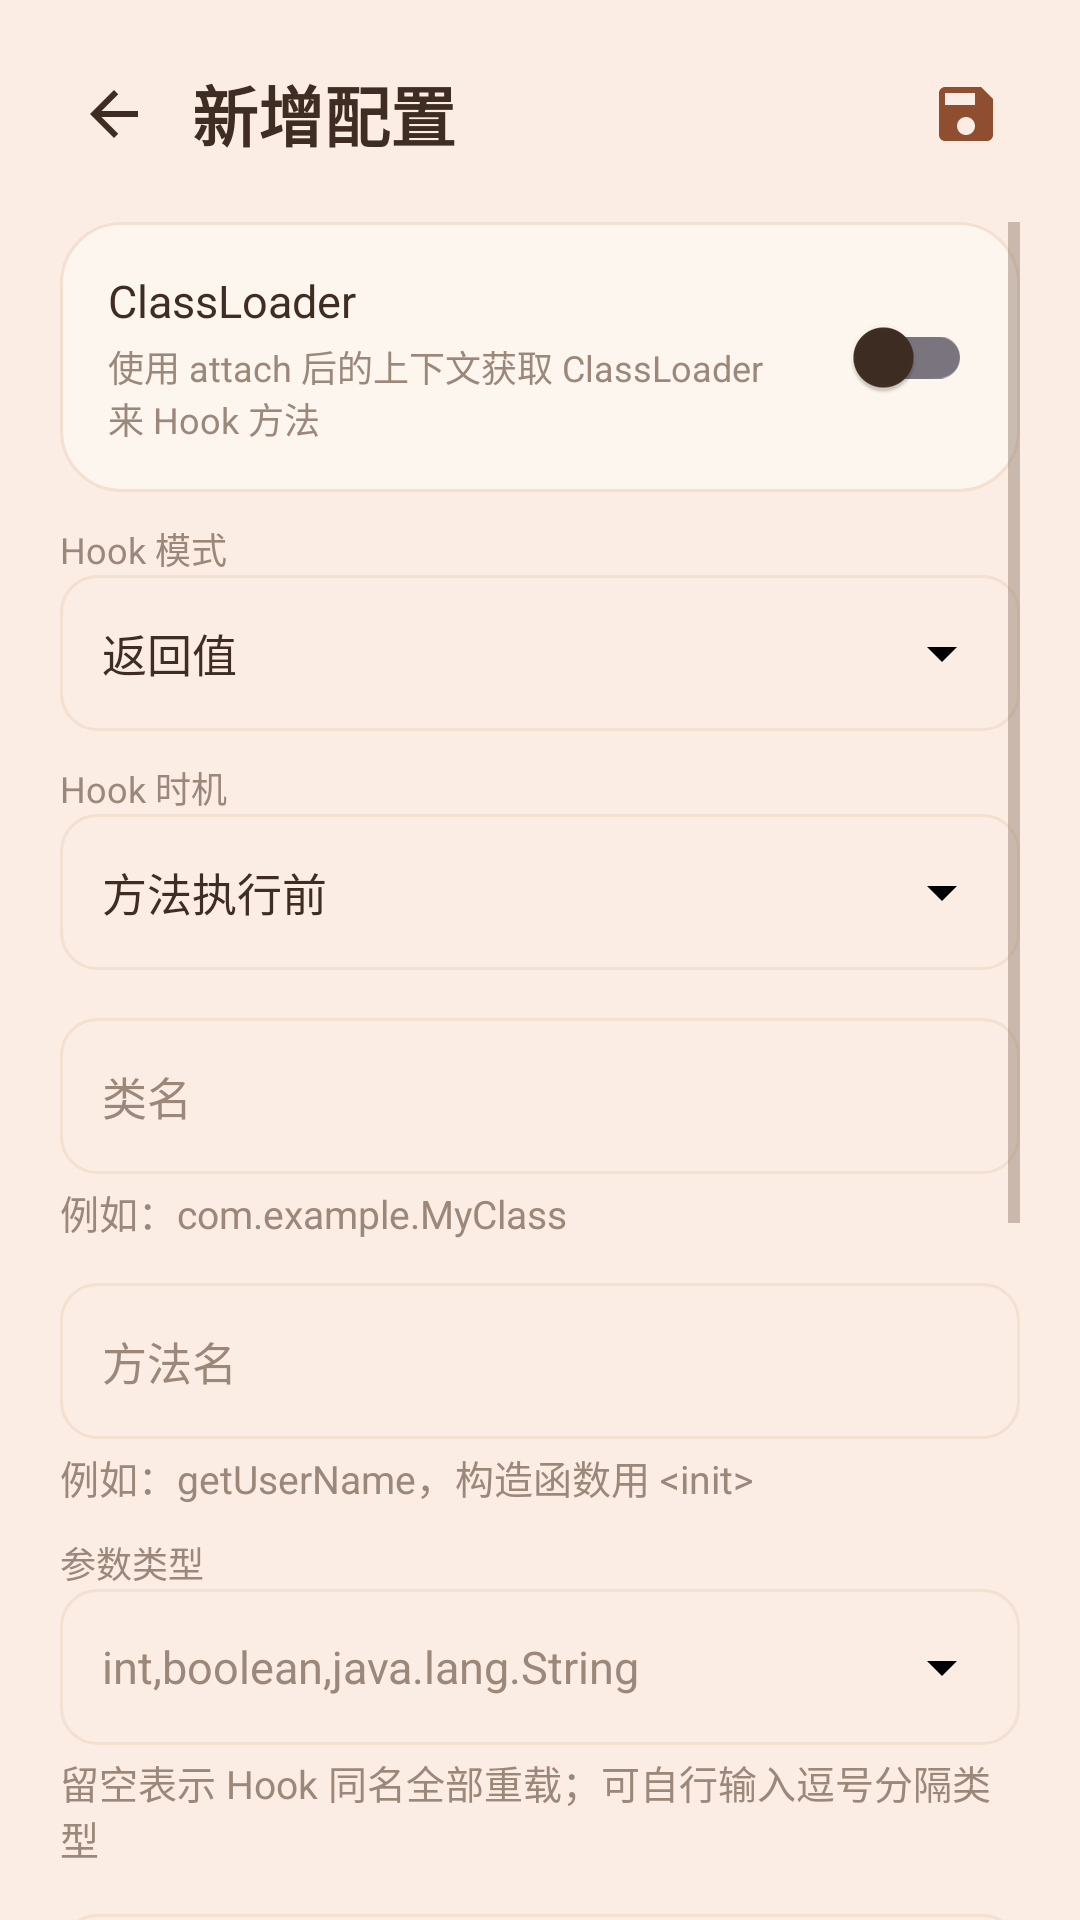

Screen size 1080px x 1920px. Icon name, then its center in pixels as [x,y]:
back: [114,114]
save: [966,114]
